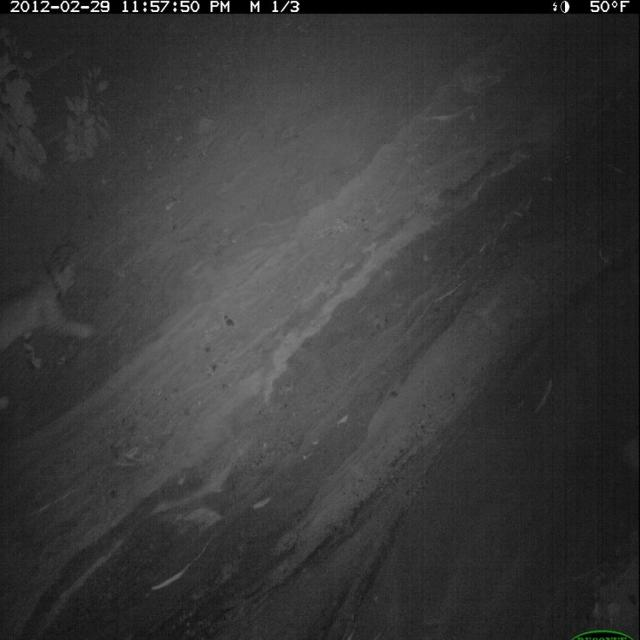bobcat: (1, 238, 99, 415)
